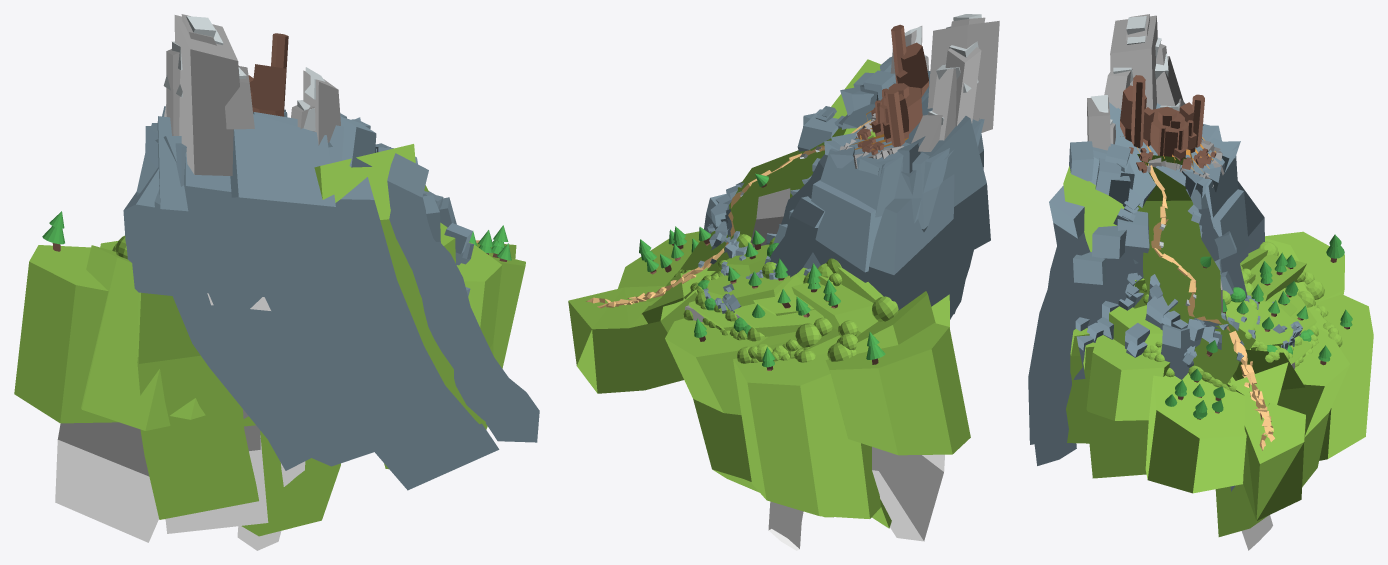
File: Mountain.glb
The picture shows the model from 3 angles, left to right: view 1: azimuth 30°, elevation 25°; view 2: azimuth 150°, elevation 25°; view 3: azimuth 270°, elevation 25°; orthographic projection. The views are drawn at different scales.
Parts seen in each view (by area): view 1: Node; view 2: Node; view 3: Node.
Part boxes in pixels (x1=…): Node: x1=14, y1=14, x2=539, y2=550; Node: x1=568, y1=14, x2=999, y2=550; Node: x1=1028, y1=14, x2=1373, y2=550.
Bounding box in the file's own units: 0.6913 × 0.8524 × 0.5558.
